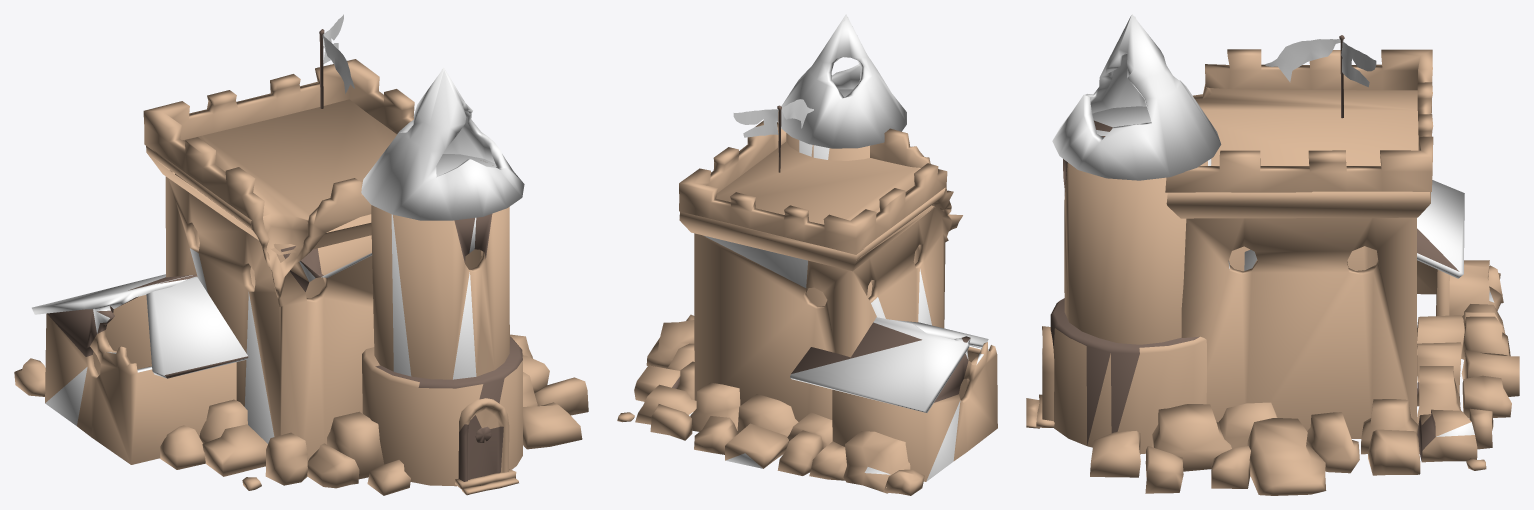
3 renders of one model, left to right at view 1: azimuth 30°, elevation 25°; view 2: azimuth 150°, elevation 25°; view 3: azimuth 270°, elevation 25°, orthographic. The views are drawn at different scales.
Parts seen in each view (by area): view 1: castle_d2.6; view 2: castle_d2.6; view 3: castle_d2.6.
Boxes of the visible parts, x1,y1,x2,y2 form: castle_d2.6: (14,14,588,495); castle_d2.6: (617,14,997,495); castle_d2.6: (1026,14,1519,495).
Bounding box in the file's own units: 2.9 × 2.63 × 2.9.
